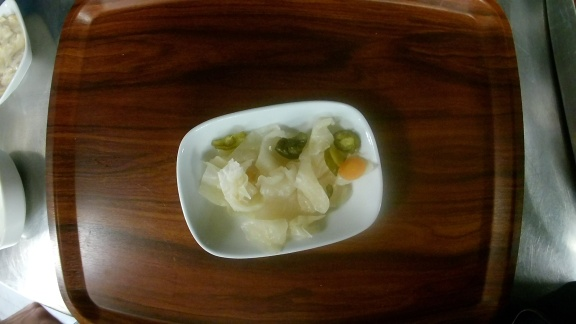tursu: (175, 100, 386, 258)
